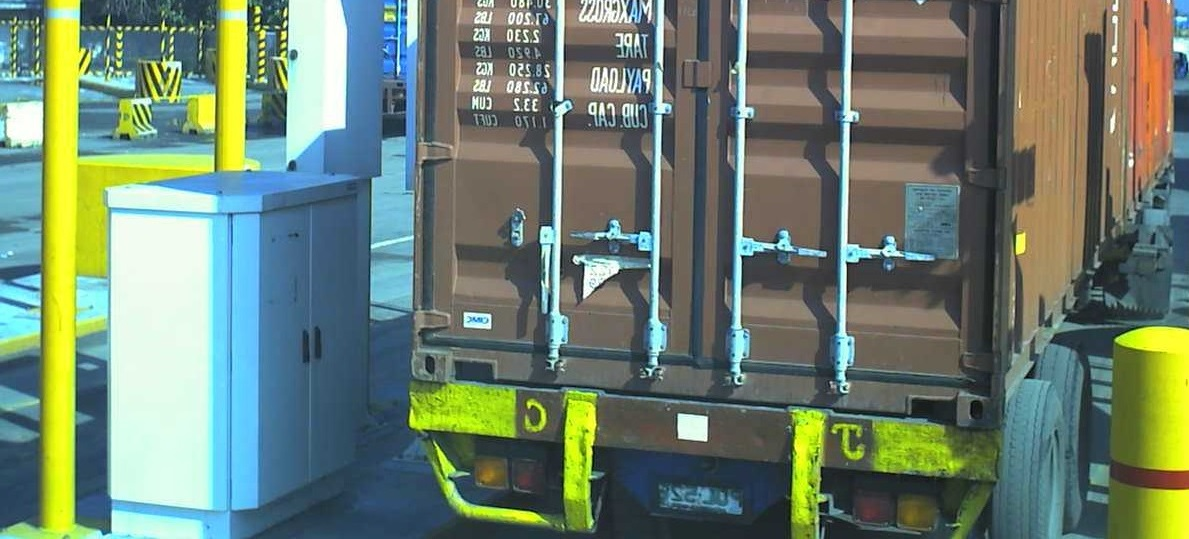container_door: (405, 7, 1005, 431)
